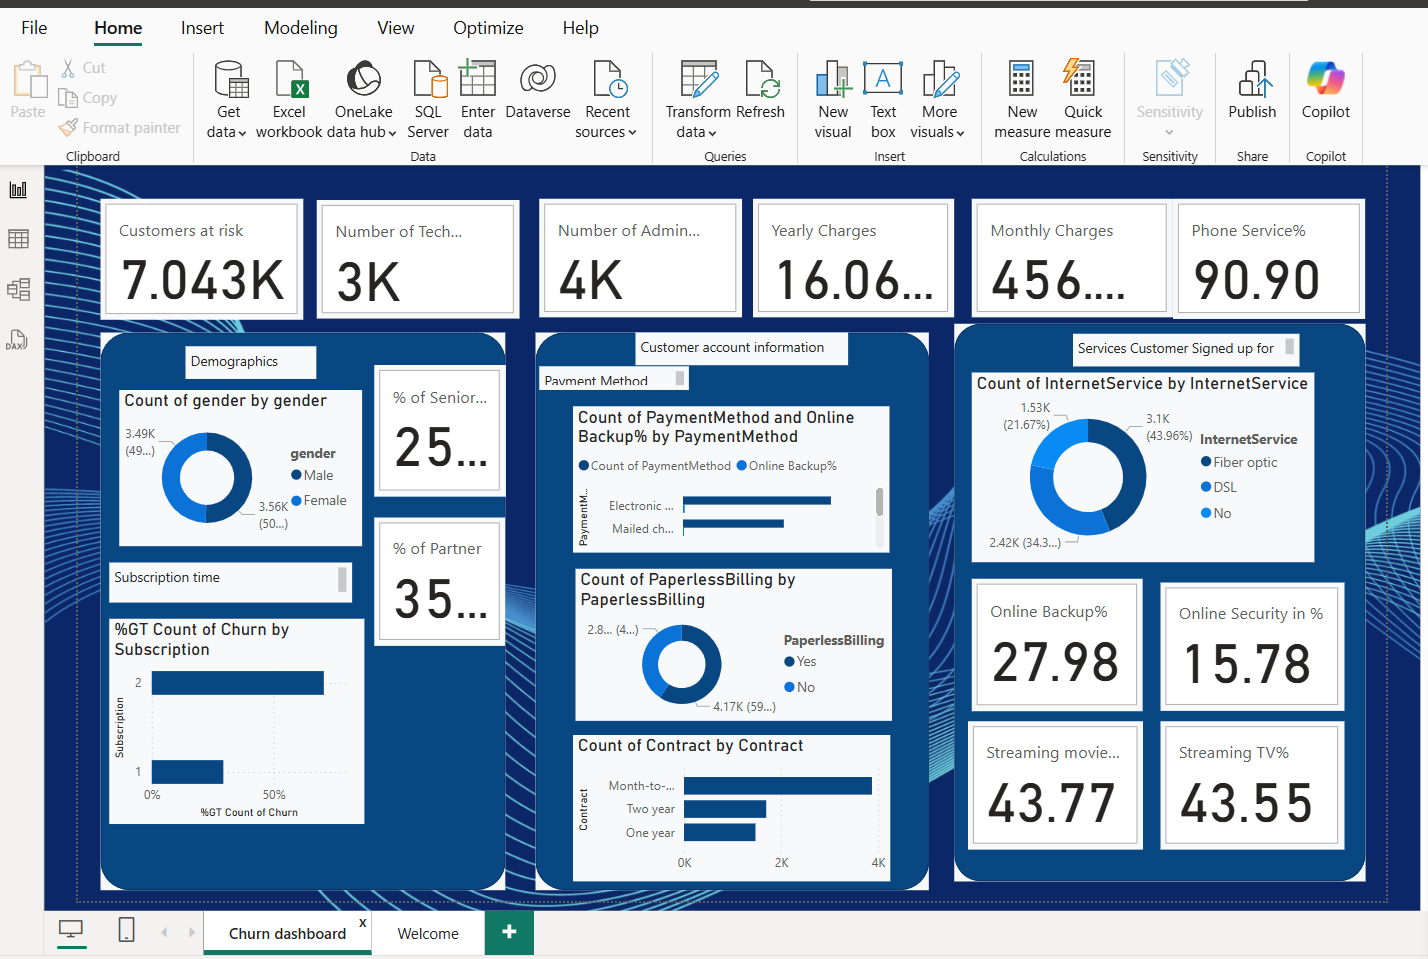

Layout of this report page (visuals, bound fields, positions):
{"tool":"powerbi","page":{"name":"Churn dashboard","canvas":[1280,720],"ordinal":0},"visuals":[{"type":"textbox","box":[64.8,653,289.8,47.7],"z":0},{"type":"cardVisual","fields":{"Data":["Count(01 Churn-Dataset.customerID)"]},"box":[22,33,198.1,118.6],"z":1000},{"type":"cardVisual","fields":{"Data":["Sum(01 Churn-Dataset.numTechTickets)"]},"box":[233.6,34.2,198.1,116.2],"z":2000},{"type":"cardVisual","fields":{"Data":["Sum(01 Churn-Dataset.numAdminTickets)"]},"box":[451.2,33,198.1,116.2],"z":3000},{"type":"cardVisual","fields":{"Data":["Sum(01 Churn-Dataset.TotalCharges)"]},"box":[660.3,33,196.9,116.2],"z":4000},{"type":"cardVisual","fields":{"Data":["Sum(01 Churn-Dataset.MonthlyCharges)"]},"box":[874.3,33,196.9,116.2],"z":5000},{"type":"shape","box":[22,163.9,396.2,545.4],"z":6000},{"type":"shape","box":[447.6,163.9,385.2,545.4],"z":7000},{"type":"shape","box":[857.2,155.3,402.3,545.4],"z":8000},{"type":"textbox","box":[105.2,177.3,128.4,31.8],"z":9000},{"type":"textbox","box":[545.4,163.9,207.9,31.8],"z":10000},{"type":"textbox","box":[973.4,165.1,221.3,31.8],"z":11000},{"type":"donutChart","fields":{"Category":["01 Churn-Dataset.gender"],"Y":["CountNonNull(01 Churn-Dataset.gender)"]},"box":[40.4,220.1,237.2,152.9],"z":12000},{"type":"textbox","box":[30.6,388.9,237.2,39.1],"z":13000},{"type":"clusteredBarChart","fields":{"Category":["01 Churn-Dataset.Subscription"],"Y":["CountNonNull(01 Churn-Dataset.Churn)"]},"box":[30.6,443.9,249.5,200.5],"z":14000},{"type":"cardVisual","fields":{"Data":["01 Churn-Dataset.% of Senior Citizen"]},"box":[289.5,196.2,129,129],"z":15000},{"type":"cardVisual","fields":{"Data":["01 Churn-Dataset.% of Senior citizen"]},"box":[289.8,344.8,128.4,126],"z":16000},{"type":"textbox","box":[451.2,196.9,146.7,23.2],"z":17000},{"type":"clusteredBarChart","fields":{"Category":["01 Churn-Dataset.PaymentMethod"],"Y":["CountNonNull(01 Churn-Dataset.PaymentMethod)","01 Churn-Dataset.Online Backup%"]},"box":[484.2,236,309.4,143.1],"z":18000},{"type":"donutChart","fields":{"Category":["01 Churn-Dataset.PaperlessBilling"],"Y":["CountNonNull(01 Churn-Dataset.PaperlessBilling)"]},"box":[486.7,395,309.4,149.2],"z":19000},{"type":"clusteredBarChart","fields":{"Category":["01 Churn-Dataset.Contract"],"Y":["CountNonNull(01 Churn-Dataset.Contract)"]},"box":[484.2,557.6,310.6,143.1],"z":20000},{"type":"donutChart","fields":{"Category":["01 Churn-Dataset.InternetService"],"Y":["CountNonNull(01 Churn-Dataset.InternetService)"]},"box":[874.3,203,335.1,185.9],"z":21000},{"type":"cardVisual","fields":{"Data":["01 Churn-Dataset.Online Backup%"]},"box":[874.3,404.8,167.5,129.6],"z":22000},{"type":"cardVisual","fields":{"Data":["01 Churn-Dataset.Online Security in %"]},"box":[1059,408.4,179.8,126],"z":23000},{"type":"cardVisual","fields":{"Data":["01 Churn-Dataset.Streaming movies in %"]},"box":[870.7,544.2,171.2,126],"z":24000},{"type":"cardVisual","fields":{"Data":["01 Churn-Dataset.Streaming TV%"]},"box":[1059,544.2,179.8,126],"z":25000},{"type":"cardVisual","fields":{"Data":["01 Churn-Dataset.Phone Service%"]},"box":[1071.2,33,188.3,117.4],"z":26000}]}

Visuals, with their boxes on the page's 1280x720 design canvas (x1, y1, x2, y2). These are canvas units, not pixel positions in the 1428x959 screenshot, which may show the page scaled, cropped or inside an application window:
textbox: pyautogui.locateOnScreen(65, 653, 355, 701)
cardVisual - Count(01 Churn-Dataset.customerID): pyautogui.locateOnScreen(22, 33, 220, 152)
cardVisual - Sum(01 Churn-Dataset.numTechTickets): pyautogui.locateOnScreen(234, 34, 432, 150)
cardVisual - Sum(01 Churn-Dataset.numAdminTickets): pyautogui.locateOnScreen(451, 33, 649, 149)
cardVisual - Sum(01 Churn-Dataset.TotalCharges): pyautogui.locateOnScreen(660, 33, 857, 149)
cardVisual - Sum(01 Churn-Dataset.MonthlyCharges): pyautogui.locateOnScreen(874, 33, 1071, 149)
shape: pyautogui.locateOnScreen(22, 164, 418, 709)
shape: pyautogui.locateOnScreen(448, 164, 833, 709)
shape: pyautogui.locateOnScreen(857, 155, 1260, 701)
textbox: pyautogui.locateOnScreen(105, 177, 234, 209)
textbox: pyautogui.locateOnScreen(545, 164, 753, 196)
textbox: pyautogui.locateOnScreen(973, 165, 1195, 197)
donutChart - 01 Churn-Dataset.gender x CountNonNull(01 Churn-Dataset.gender): pyautogui.locateOnScreen(40, 220, 278, 373)
textbox: pyautogui.locateOnScreen(31, 389, 268, 428)
clusteredBarChart - 01 Churn-Dataset.Subscription x CountNonNull(01 Churn-Dataset.Churn): pyautogui.locateOnScreen(31, 444, 280, 644)
cardVisual - 01 Churn-Dataset.% of Senior Citizen: pyautogui.locateOnScreen(290, 196, 418, 325)
cardVisual - 01 Churn-Dataset.% of Senior citizen: pyautogui.locateOnScreen(290, 345, 418, 471)
textbox: pyautogui.locateOnScreen(451, 197, 598, 220)
clusteredBarChart - 01 Churn-Dataset.PaymentMethod x CountNonNull(01 Churn-Dataset.PaymentMethod): pyautogui.locateOnScreen(484, 236, 794, 379)
donutChart - 01 Churn-Dataset.PaperlessBilling x CountNonNull(01 Churn-Dataset.PaperlessBilling): pyautogui.locateOnScreen(487, 395, 796, 544)
clusteredBarChart - 01 Churn-Dataset.Contract x CountNonNull(01 Churn-Dataset.Contract): pyautogui.locateOnScreen(484, 558, 795, 701)
donutChart - 01 Churn-Dataset.InternetService x CountNonNull(01 Churn-Dataset.InternetService): pyautogui.locateOnScreen(874, 203, 1209, 389)
cardVisual - 01 Churn-Dataset.Online Backup%: pyautogui.locateOnScreen(874, 405, 1042, 534)
cardVisual - 01 Churn-Dataset.Online Security in %: pyautogui.locateOnScreen(1059, 408, 1239, 534)
cardVisual - 01 Churn-Dataset.Streaming movies in %: pyautogui.locateOnScreen(871, 544, 1042, 670)
cardVisual - 01 Churn-Dataset.Streaming TV%: pyautogui.locateOnScreen(1059, 544, 1239, 670)
cardVisual - 01 Churn-Dataset.Phone Service%: pyautogui.locateOnScreen(1071, 33, 1260, 150)
